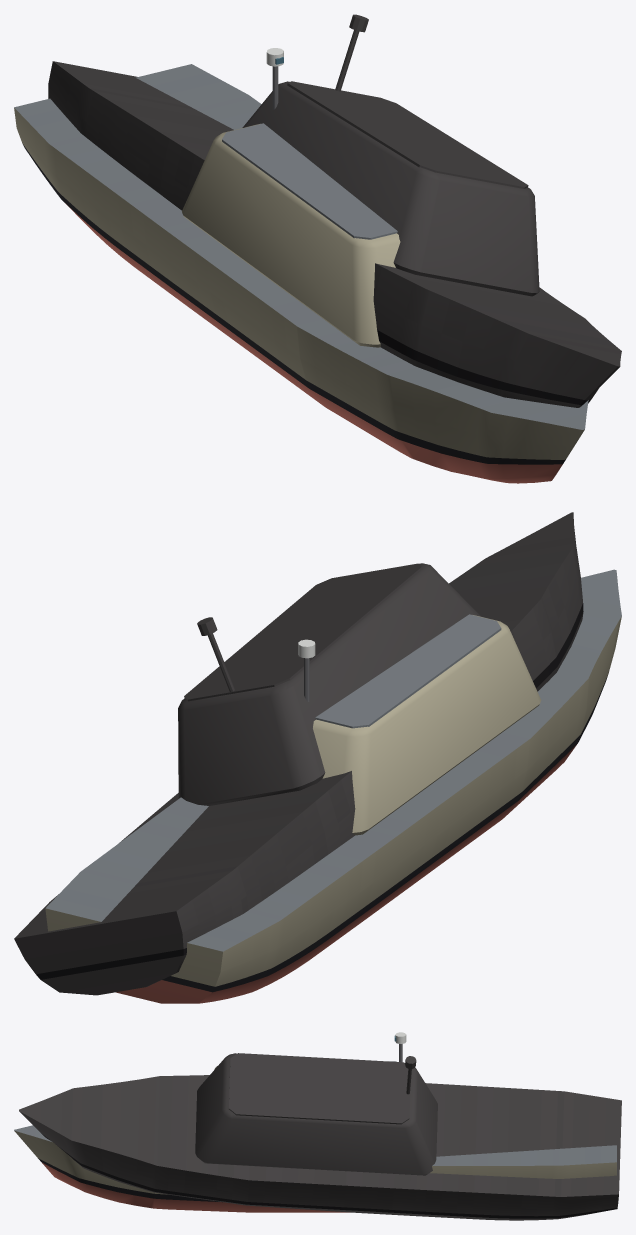
The model's file is gunboat__cutlass_class.glb.
The picture shows the model from 3 angles, top to bottom: view 1: azimuth 30°, elevation 25°; view 2: azimuth 150°, elevation 25°; view 3: azimuth 270°, elevation 25°; orthographic projection. The views are drawn at different scales.
Visible parts, largest first — view 1: Hull_Mesh, Wreck; view 2: Wreck, Hull_Mesh; view 3: Wreck, Hull_Mesh.
Boxes of the visible parts, bbox=[...] form: Hull_Mesh: bbox=[14, 64, 588, 483]; Wreck: bbox=[48, 14, 621, 407]; Wreck: bbox=[14, 512, 583, 995]; Hull_Mesh: bbox=[45, 569, 621, 1003]; Wreck: bbox=[19, 1053, 621, 1220]; Hull_Mesh: bbox=[14, 1044, 616, 1212].
Size of what is drawn, in the model's own units: 5.49 by 6.13 by 19.96.
